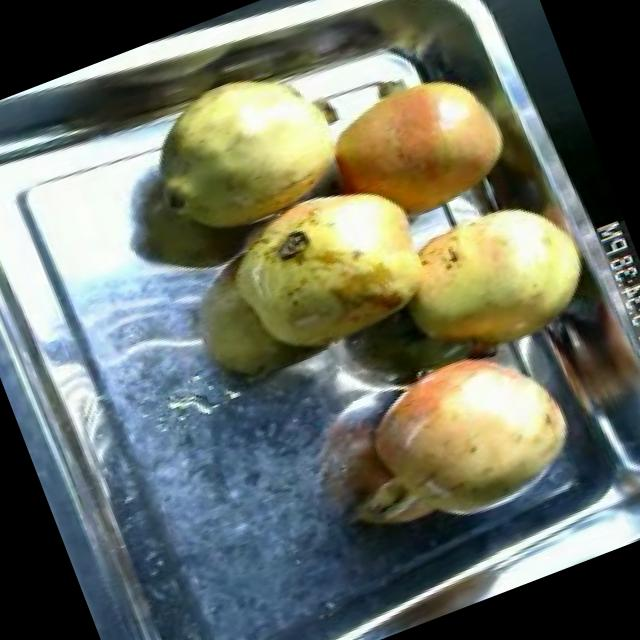fruit: (326, 312, 598, 557), (198, 154, 458, 381), (120, 39, 376, 260), (294, 35, 534, 255), (370, 170, 610, 388)
